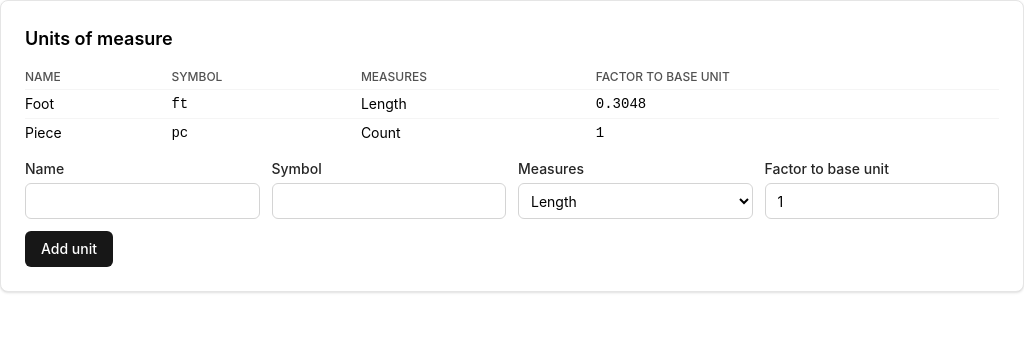
Scenario: UnitsPanel › shows the server’s message when the symbol already exists
The image size is (1024, 354).
Expected: the text "Foot" is shown, [25, 90, 171, 118]
Type "Foot 2" into the field labelled "Name" at (142, 201), box [25, 183, 260, 219]
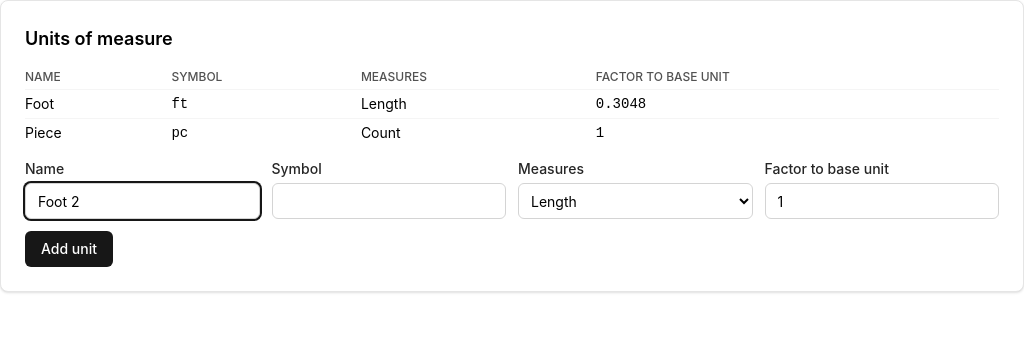
Type "ft" into the field labelled "Symbol" at (389, 201), box [272, 183, 506, 219]
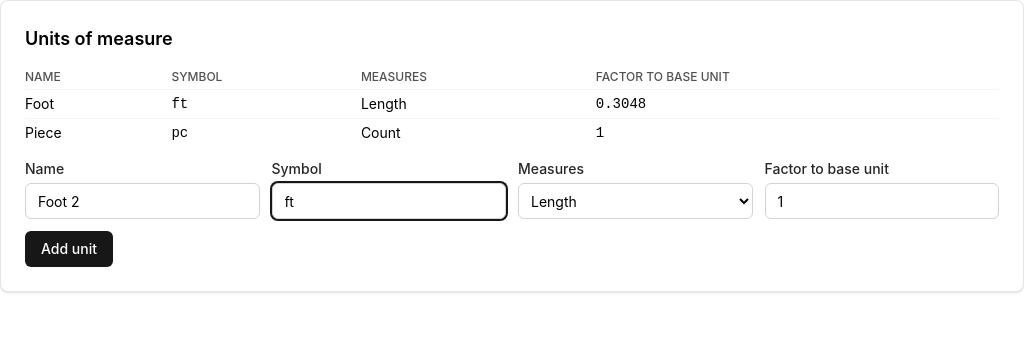
Click the button "Add unit" at (69, 249), box [25, 231, 113, 267]
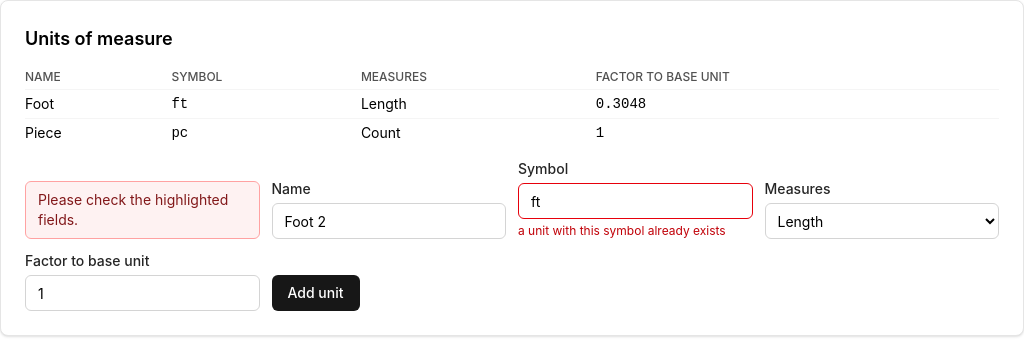
Expected: the text "a unit with this symbol already exists" is shown, [518, 223, 752, 239]
